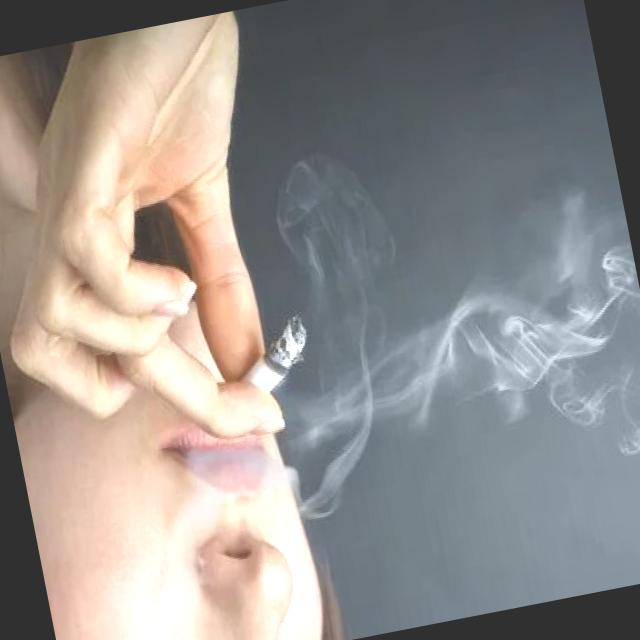smoke: (223, 291, 332, 408)
